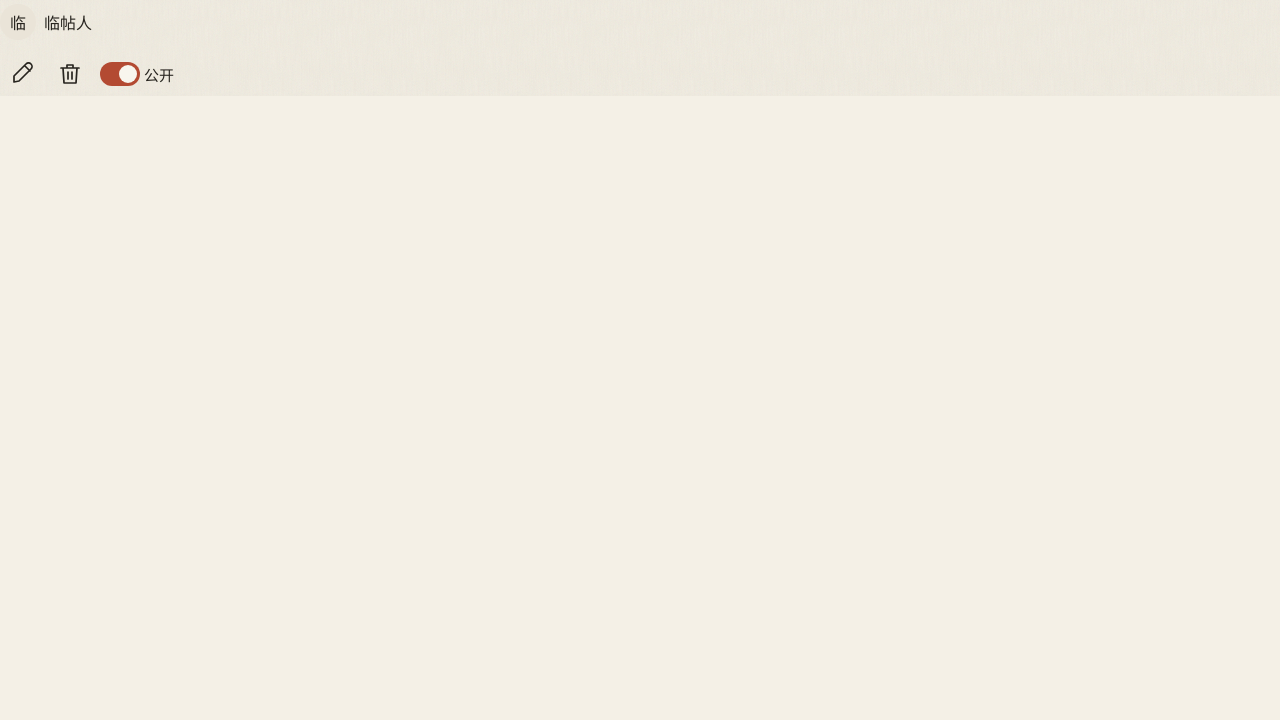
Test: Work detail actions for the author › shows a field-neutral failure and repeats an unconfirmed command with the same request
Click the button named "永久删除" at (70, 74), box [48,52,92,96]
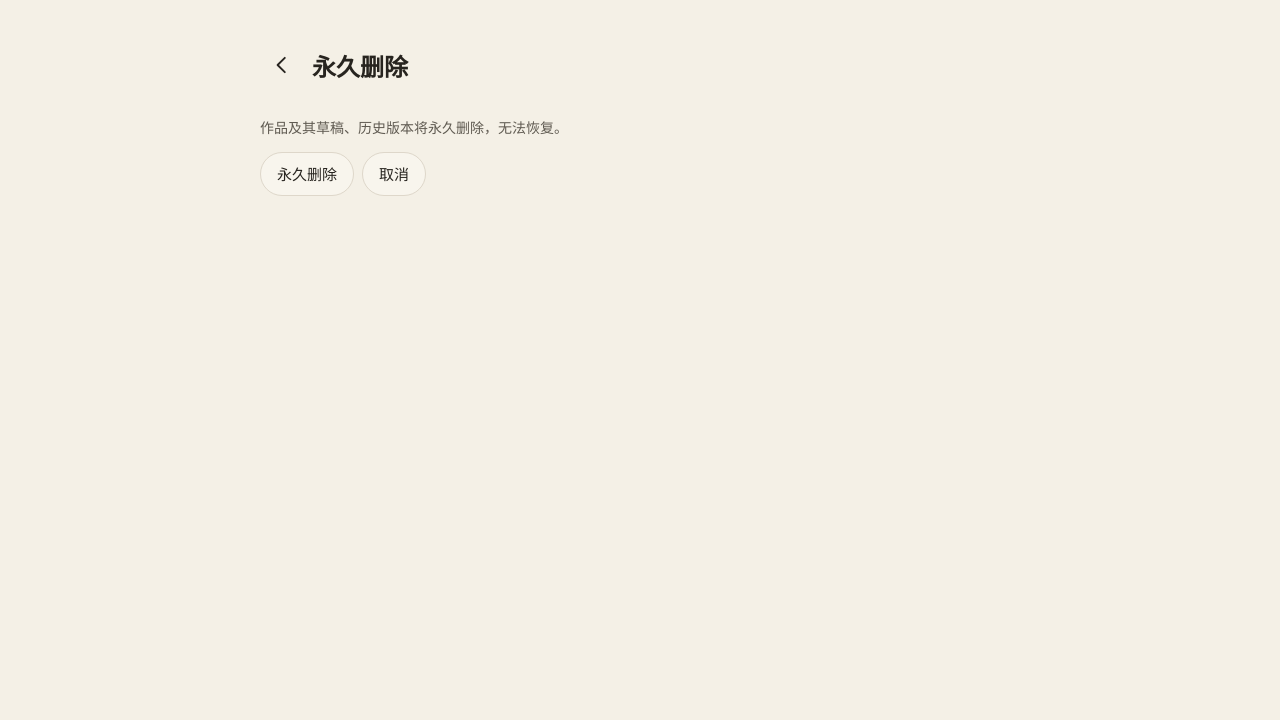
Click the button "永久删除" at (307, 174), box [260,152,354,196]
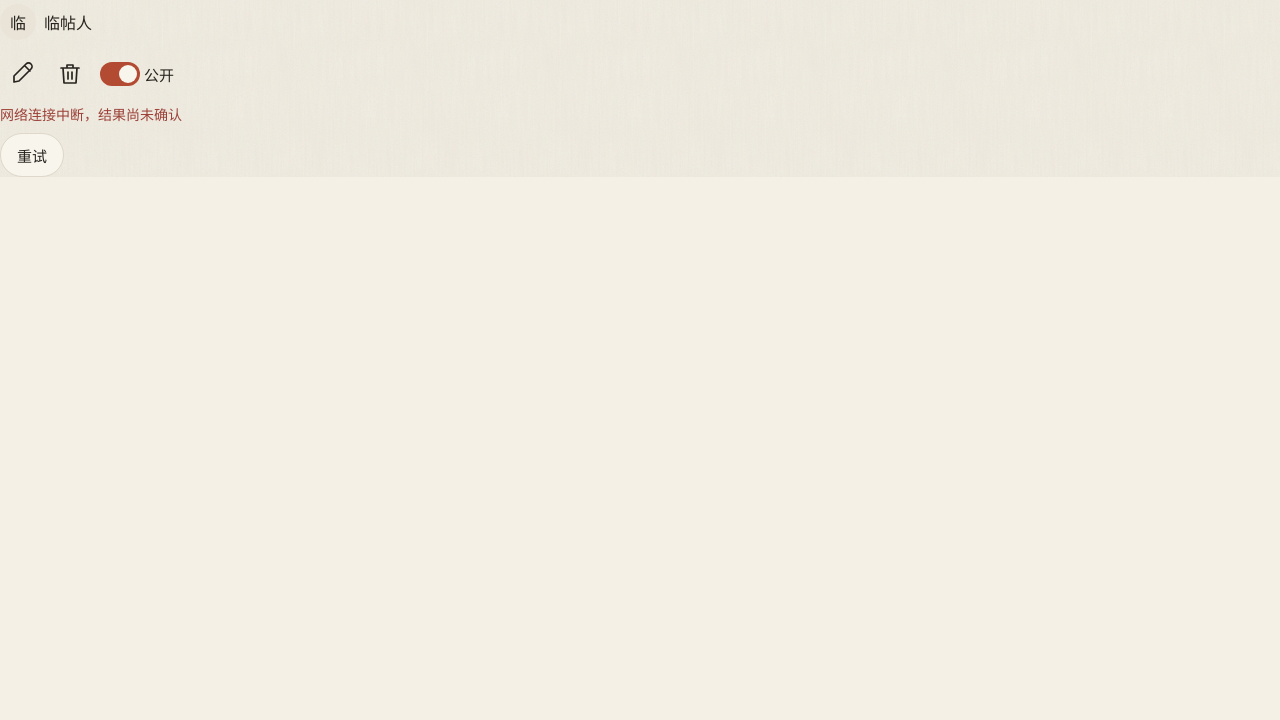
Expected: the button named "编辑" is shown, [0,52,44,96]
Expected: the message "网络连接中断，结果尚未确认" is shown, [0,106,182,123]
Click the button "重试" at (32, 155), box [0,133,64,177]
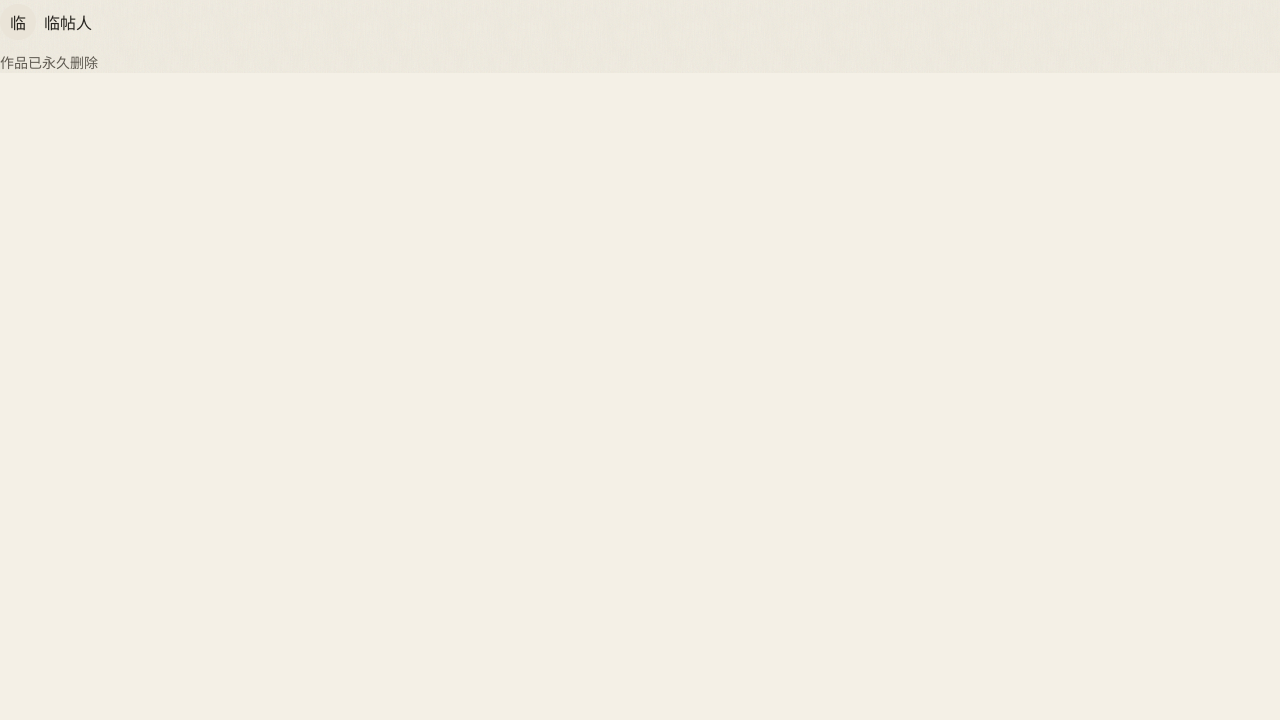
Expected: the message "作品已永久删除" is shown, [0,54,98,71]
